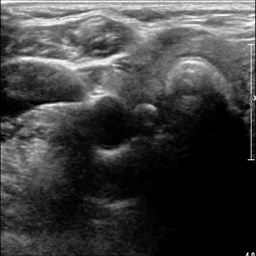mass: (131, 100, 161, 138)
